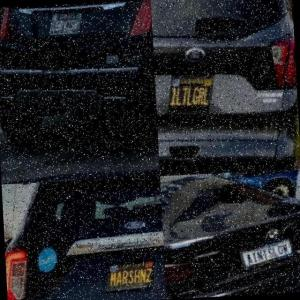Plate: (169, 66, 222, 120), (240, 241, 298, 274), (107, 260, 159, 296), (51, 15, 84, 37)
